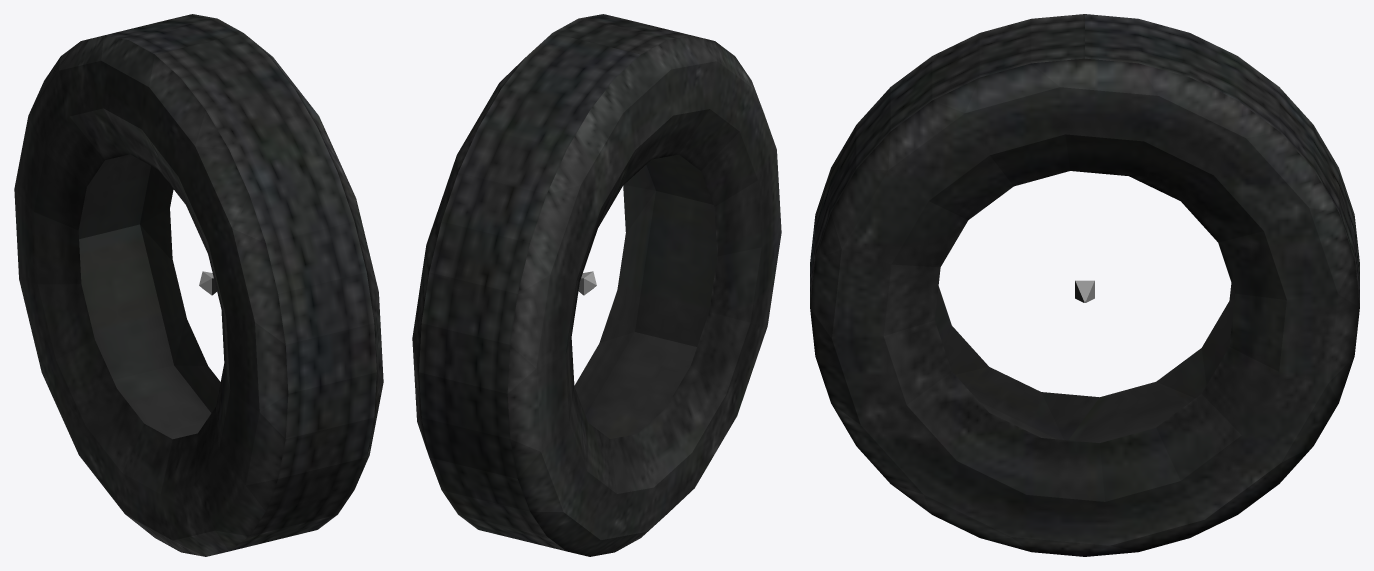
Rendered from tire.glb.
The picture shows the model from 3 angles, left to right: view 1: azimuth 30°, elevation 25°; view 2: azimuth 150°, elevation 25°; view 3: azimuth 270°, elevation 25°; orthographic projection. The views are drawn at different scales.
Parts seen in each view (by area): view 1: 34VQAP8TOI1EKPIYTH8GQRA5R; view 2: 34VQAP8TOI1EKPIYTH8GQRA5R; view 3: 34VQAP8TOI1EKPIYTH8GQRA5R.
Part boxes in pixels (x1,y1,x2,y2): 34VQAP8TOI1EKPIYTH8GQRA5R: (14,14,383,556); 34VQAP8TOI1EKPIYTH8GQRA5R: (412,14,781,556); 34VQAP8TOI1EKPIYTH8GQRA5R: (810,14,1359,556).
Size of the model in its own units: 0.719 by 2.5 by 2.5.
Materials: 2 (2 with a texture image).
